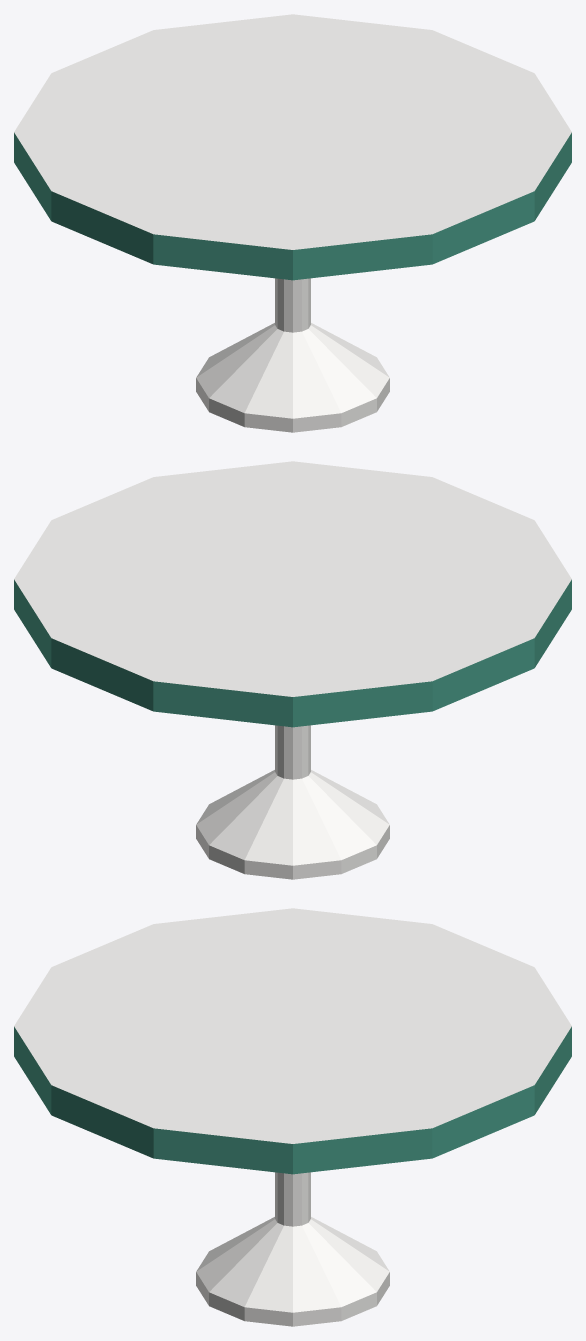
Rendered from Decorative_saucer.fbx.
3 renders of one model, top to bottom at view 1: azimuth 30°, elevation 25°; view 2: azimuth 150°, elevation 25°; view 3: azimuth 270°, elevation 25°, orthographic.
Visible parts, largest first — view 1: Decorative_saucer; view 2: Decorative_saucer; view 3: Decorative_saucer.
Part boxes in pixels (<box>): Decorative_saucer: <box>14,14,571,432</box>; Decorative_saucer: <box>14,461,571,879</box>; Decorative_saucer: <box>14,908,571,1326</box>.
Bounding box in the file's own units: 52.27 × 52.27 × 26.83.
